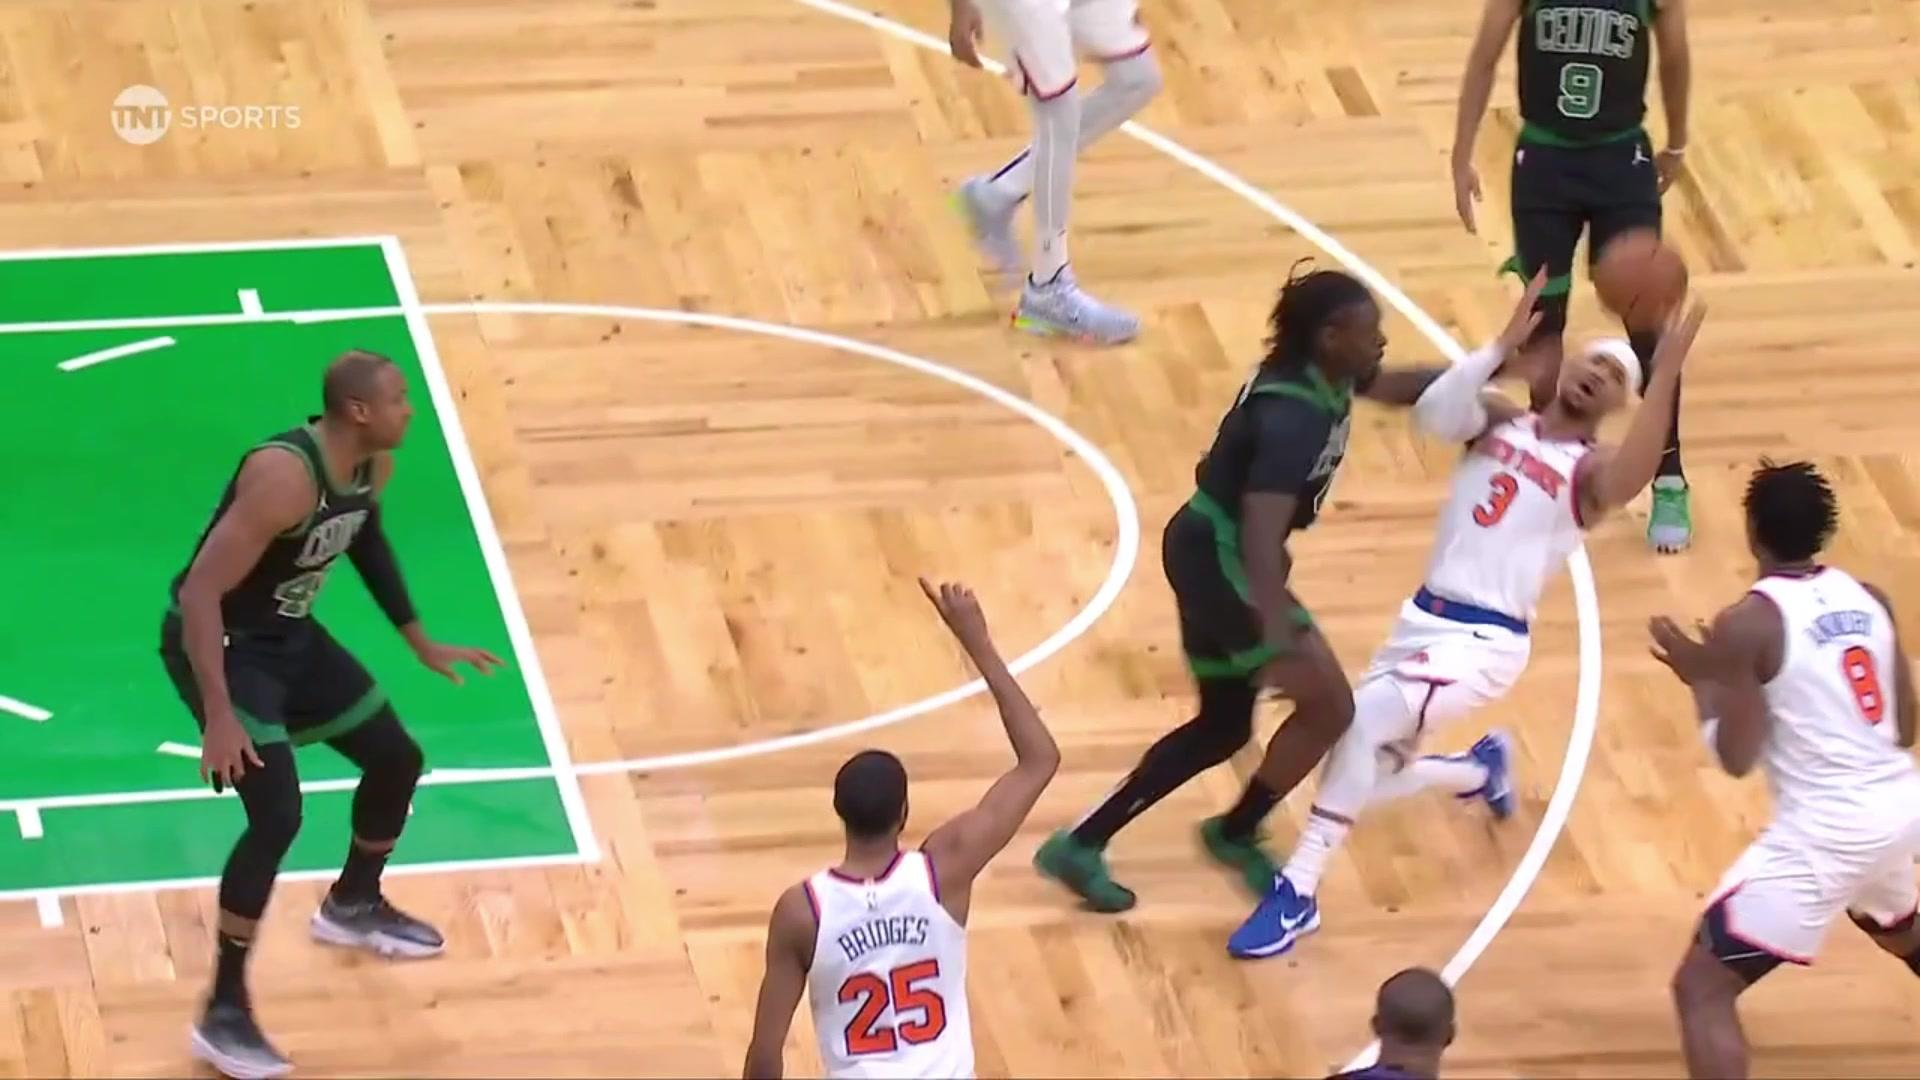foul: (1141, 245, 1708, 963)
